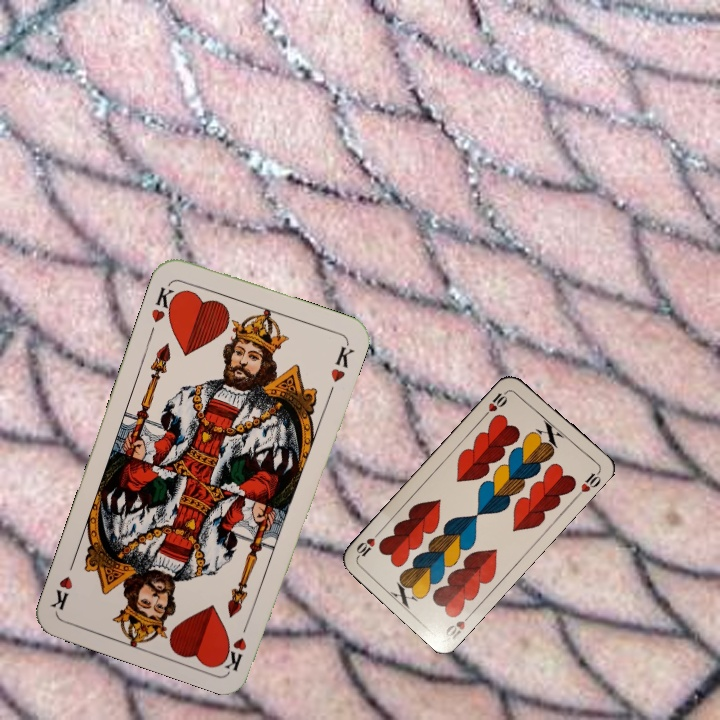H10: (441, 608, 476, 642), (480, 386, 512, 419)
HK: (221, 614, 253, 673), (147, 282, 182, 325)
